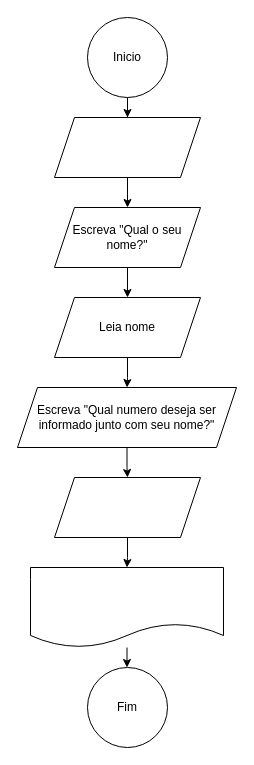
Image size: 254x765. Some labels were removed from this diagram. The box of each missing label's shape, as (x1, y1, x2, y2) in pixels:
"Seu nome é ", nome, ", e o numero informado é ", numero: (30, 566, 224, 648)
Cadeia nome Real numero: (54, 116, 200, 178)
Leia numero: (54, 476, 200, 538)
